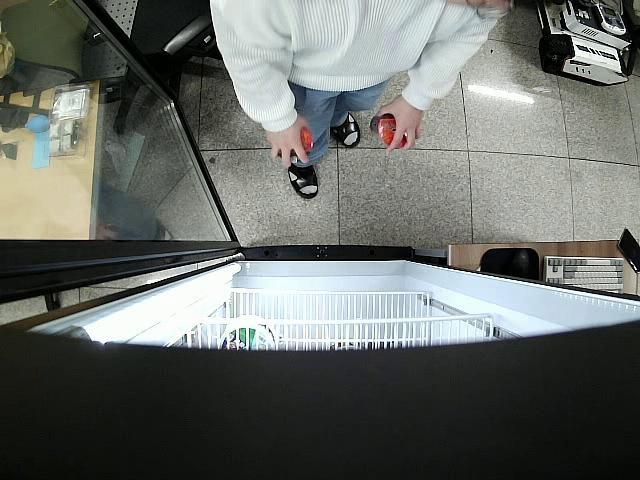02_shinRamen_S: (370, 113, 407, 148), (278, 128, 313, 162)
